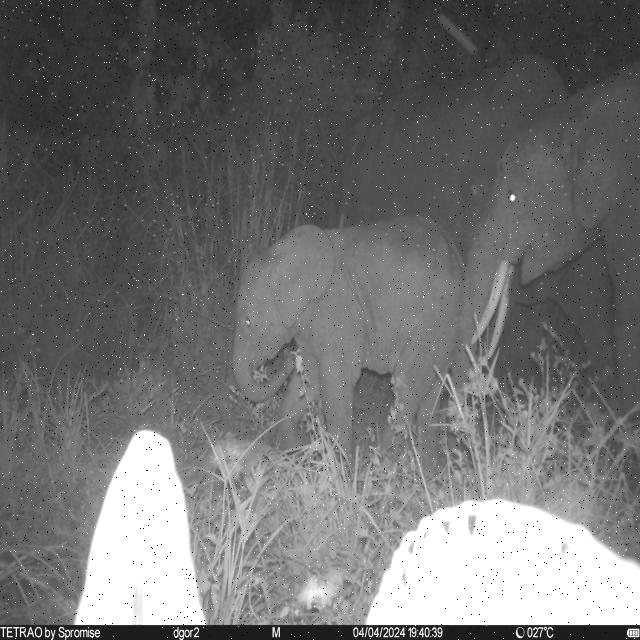calf: (232, 216, 470, 469)
ear: (574, 71, 638, 231), (270, 225, 336, 332)
elephant: (342, 51, 616, 393), (466, 51, 640, 413)
tusk: (470, 260, 510, 348), (488, 266, 516, 367)
